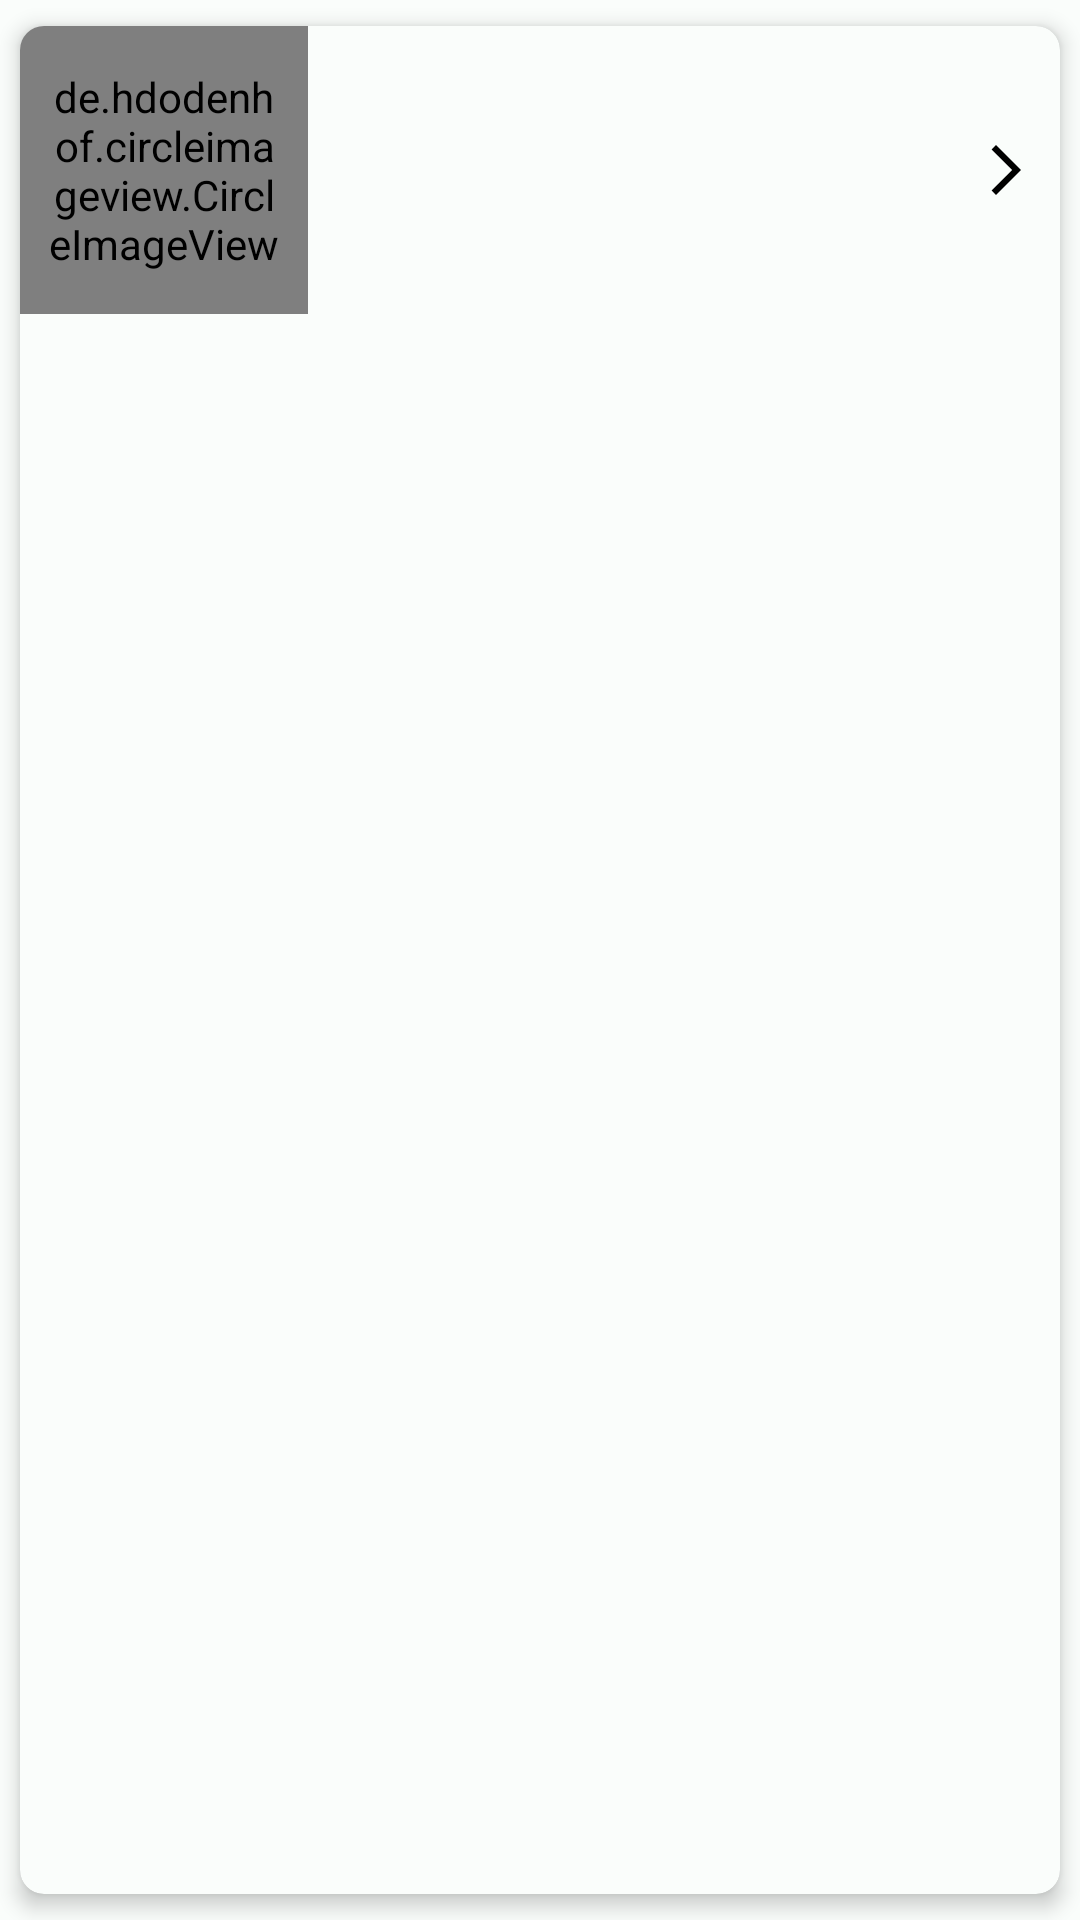

Screen size 1080 x 1920. Icon name, then its box in pixels as bbox=(x1, y1, x2, y2):
forward: bbox=(991, 145, 1021, 195)
